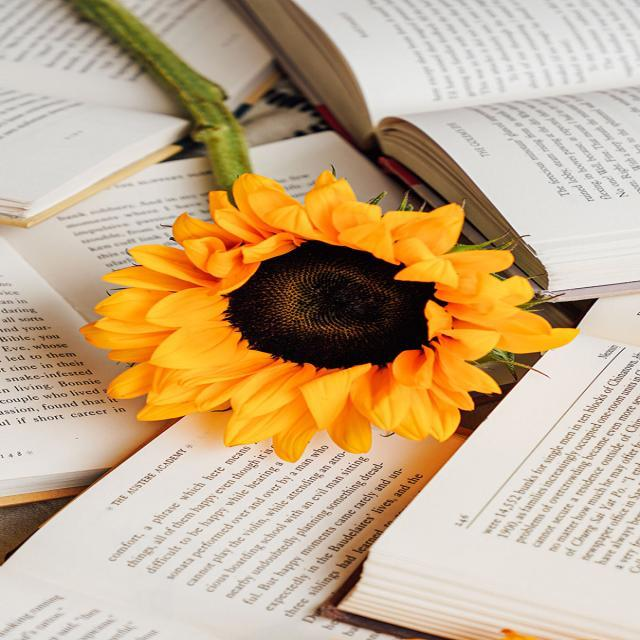sunflower: (76, 167, 580, 463)
